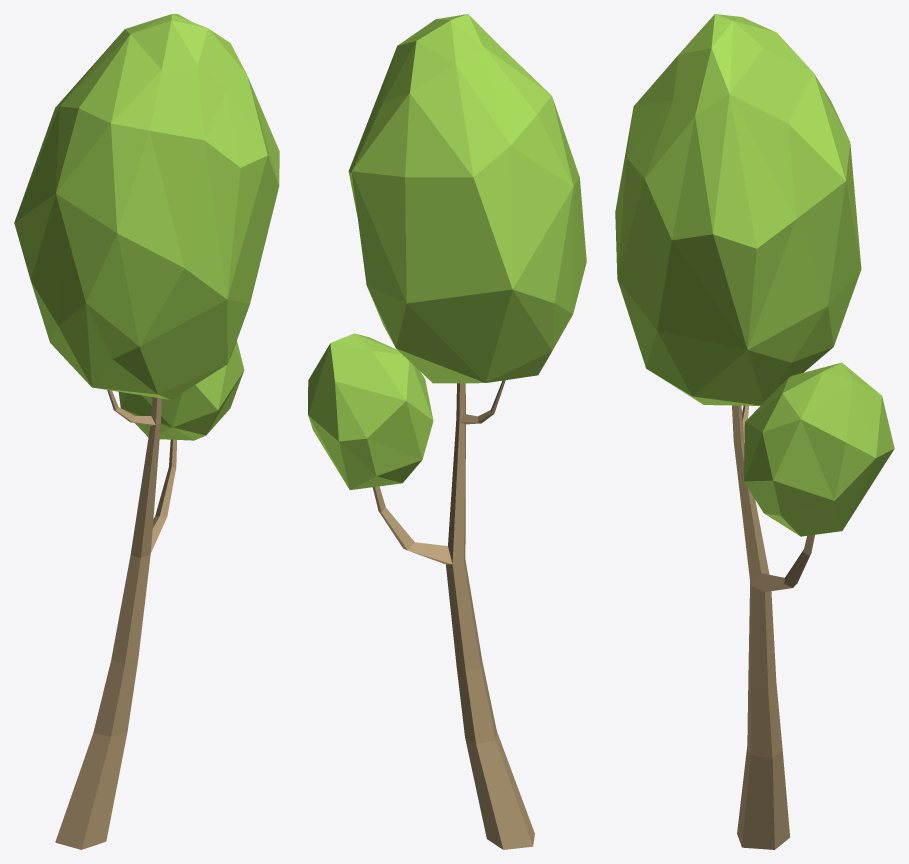
File: Random_Tree_m_11_LOD.fbx
3 views of the same model, side by side, from view 1: azimuth 30°, elevation 25°; view 2: azimuth 150°, elevation 25°; view 3: azimuth 270°, elevation 25° (orthographic). The views are drawn at different scales.
Parts seen in each view (by area): view 1: Random_Tree_m_11_LOD0; view 2: Random_Tree_m_11_LOD0; view 3: Random_Tree_m_11_LOD0.
Boxes of the visible parts, left/top/right/bottom form: Random_Tree_m_11_LOD0: left=14, top=14, right=279, bottom=849; Random_Tree_m_11_LOD0: left=308, top=14, right=586, bottom=849; Random_Tree_m_11_LOD0: left=615, top=14, right=894, bottom=849.
Size of what is drawn, in the model's own units: 248 by 871 by 256.
